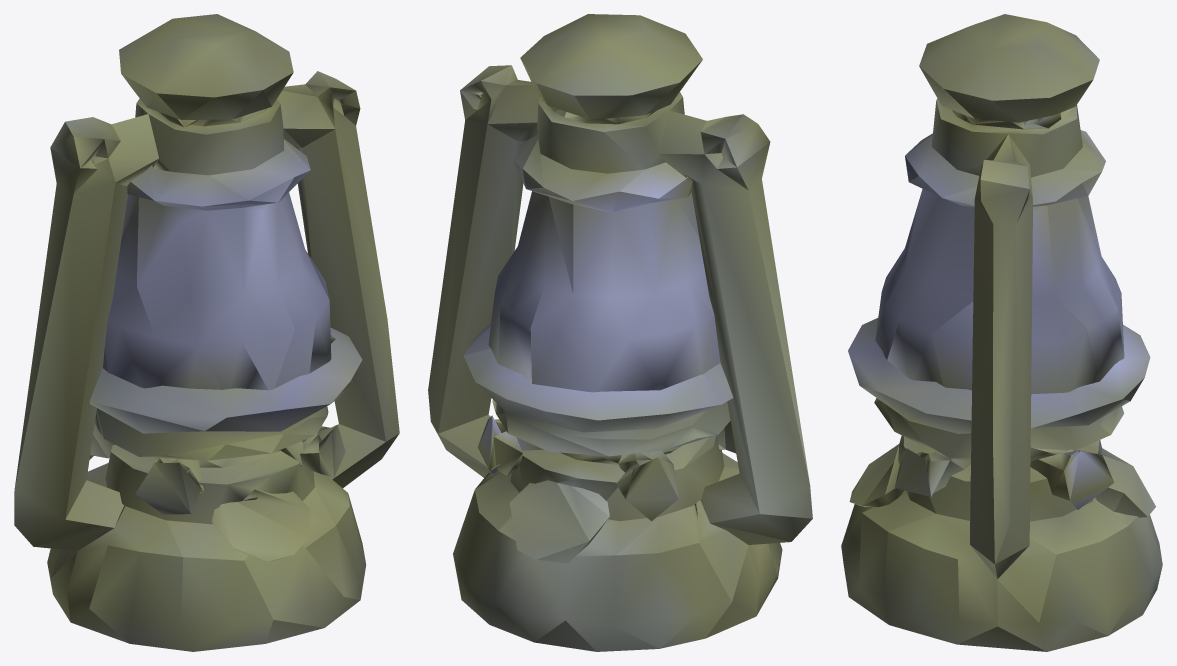
The model's file is Lantern01.fbx.
3 views of the same model, side by side, from view 1: azimuth 30°, elevation 25°; view 2: azimuth 150°, elevation 25°; view 3: azimuth 270°, elevation 25° (orthographic).
Parts seen in each view (by area): view 1: Lantern01; view 2: Lantern01; view 3: Lantern01.
Boxes of the visible parts, x1,y1,x2,y2 form: Lantern01: (14,14,399,651); Lantern01: (428,14,812,651); Lantern01: (841,14,1162,651).
Size of the model in its own units: 39.43 by 55.14 by 28.73.
